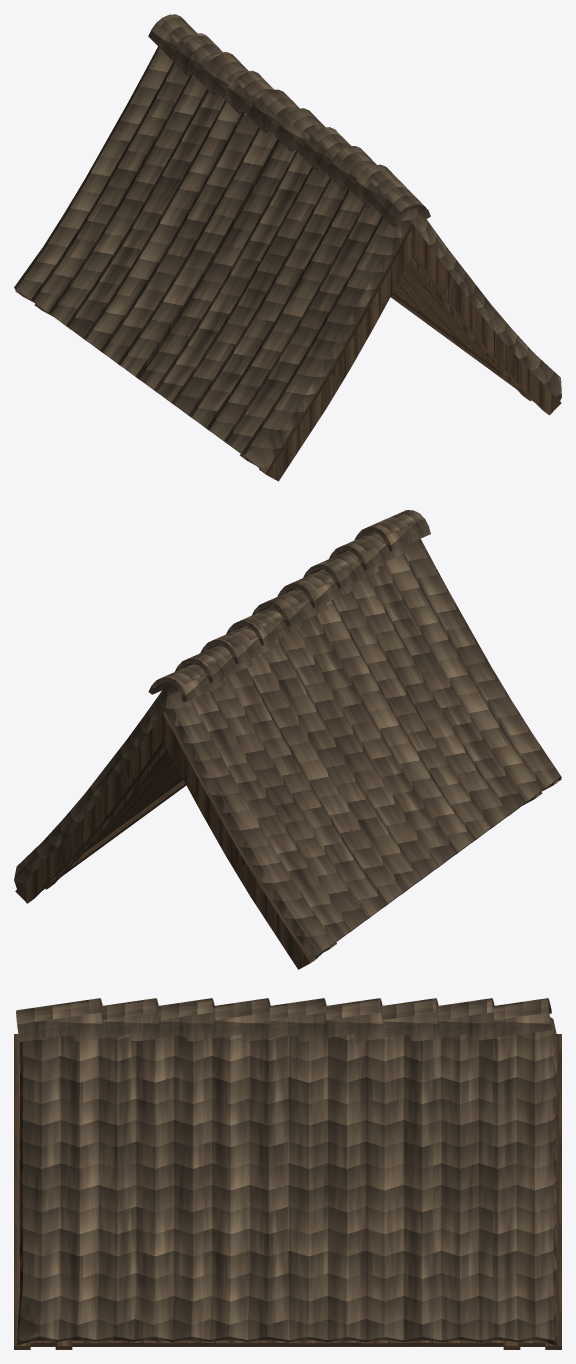
The model's file is Roof_Shingle_4x6.gltf.
3 renders of one model, top to bottom at view 1: azimuth 30°, elevation 25°; view 2: azimuth 150°, elevation 25°; view 3: azimuth 270°, elevation 25°, orthographic. The views are drawn at different scales.
Visible parts, largest first — view 1: Roof_Shingle_4x6; view 2: Roof_Shingle_4x6; view 3: Roof_Shingle_4x6.
Part boxes in pixels (<box>): Roof_Shingle_4x6: <box>14,14,561,481</box>; Roof_Shingle_4x6: <box>14,510,561,969</box>; Roof_Shingle_4x6: <box>14,998,561,1349</box>.
Size of the model in its own units: 5.51 by 4.23 by 7.57.
2 materials, 2 textured.
